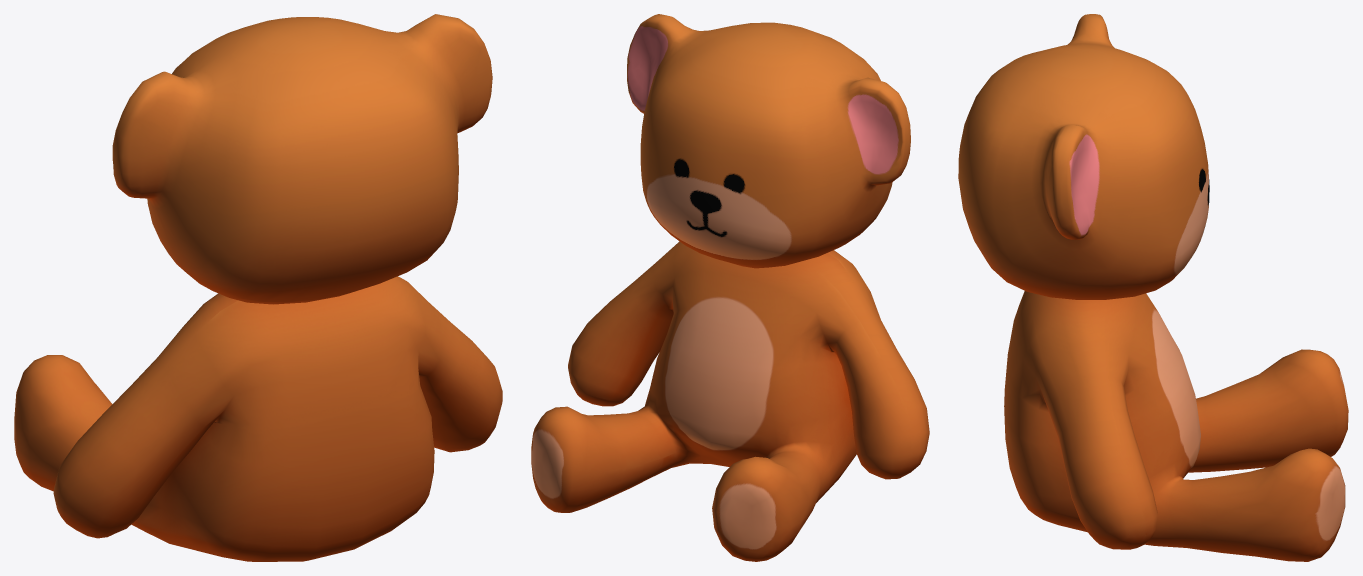
The model's file is gau bong.fbx.
3 renders of one model, left to right at view 1: azimuth 30°, elevation 25°; view 2: azimuth 150°, elevation 25°; view 3: azimuth 270°, elevation 25°, orthographic. The views are drawn at different scales.
Visible parts, largest first — view 1: gau_bong; view 2: gau_bong; view 3: gau_bong.
Part boxes in pixels (x1=…): gau_bong: x1=14, y1=14, x2=502, y2=561; gau_bong: x1=531, y1=14, x2=929, y2=561; gau_bong: x1=958, y1=14, x2=1348, y2=561.
Bounding box in the file's own units: 91.6 × 104 × 82.21.
1 material, 1 textured.
